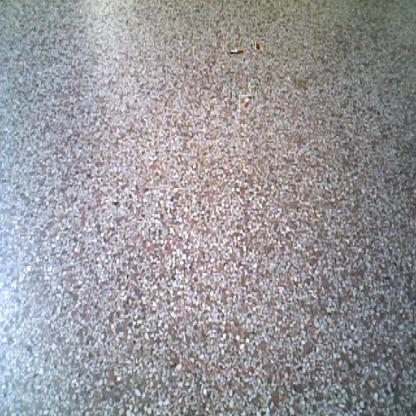dirty: (239, 96, 252, 110), (228, 46, 244, 54), (255, 41, 264, 50)
